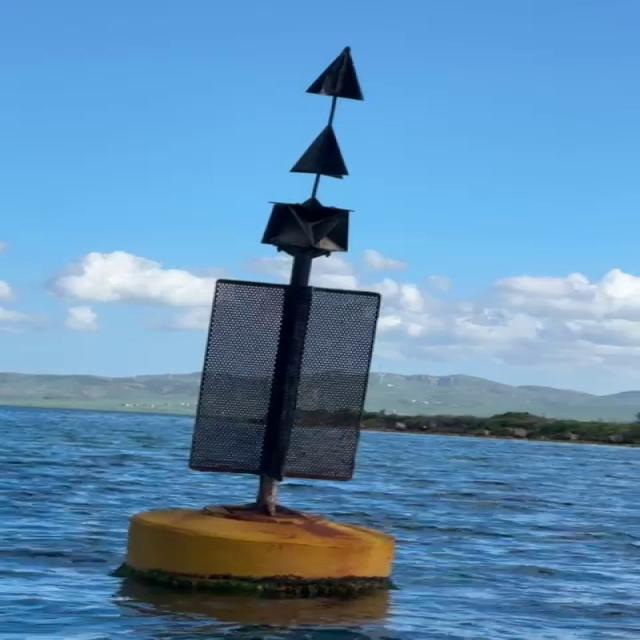marque: (128, 41, 392, 594)
